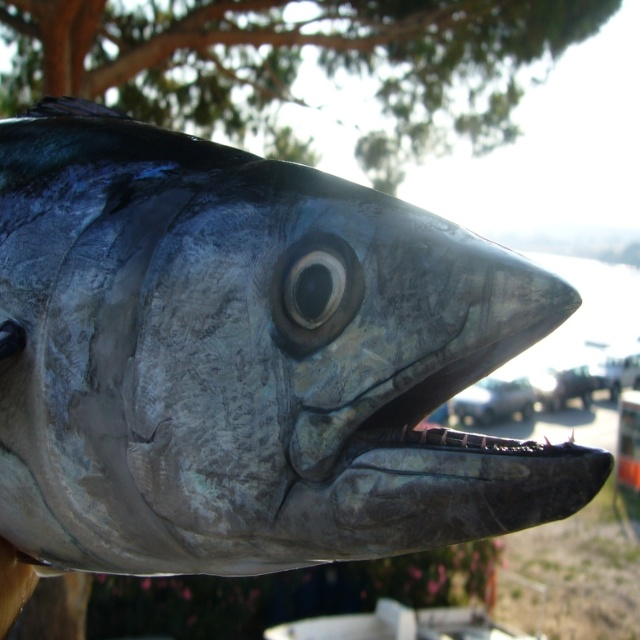Fish: (0, 92, 611, 573)
